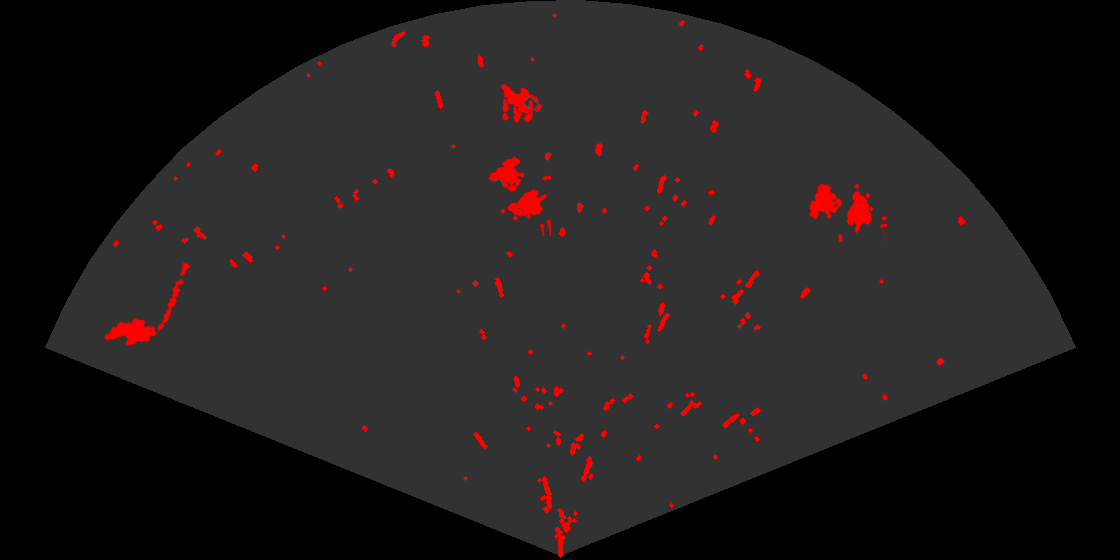AUV: (102, 316, 159, 347), (499, 82, 544, 115)
ball: (501, 95, 535, 125)
cage: (487, 155, 551, 236), (807, 182, 887, 242)
chain: (155, 259, 192, 333)
